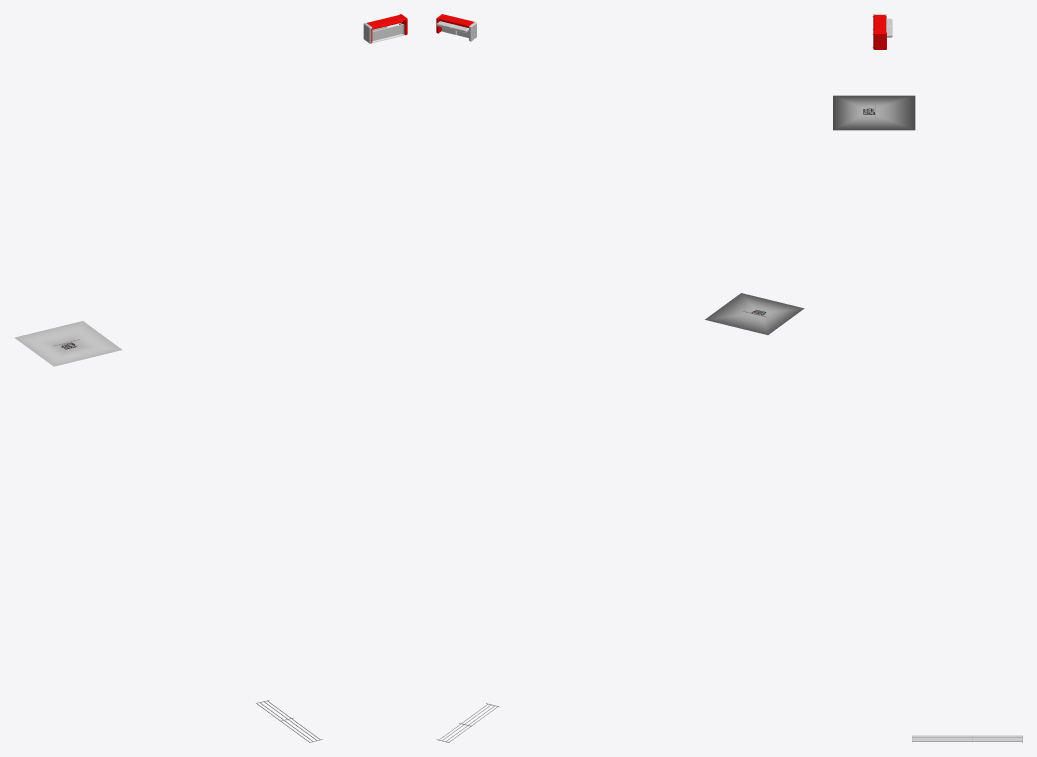
File: sinage_side_building_grp.glb
3 views of the same model, side by side, from view 1: azimuth 30°, elevation 25°; view 2: azimuth 150°, elevation 25°; view 3: azimuth 270°, elevation 25° (orthographic). The views are drawn at different scales.
Parts seen in each view (by area): view 1: Ground1; view 2: Ground1; view 3: Ground1, sinage_boadr_holder.
Boxes of the visible parts, <box> form: Ground1: <box>14,321,122,366</box>; Ground1: <box>705,293,804,334</box>; Ground1: <box>833,95,915,130</box>; sinage_boadr_holder: <box>912,735,1022,742</box>.
Bounding box in the file's own units: 655 × 1203 × 278.
